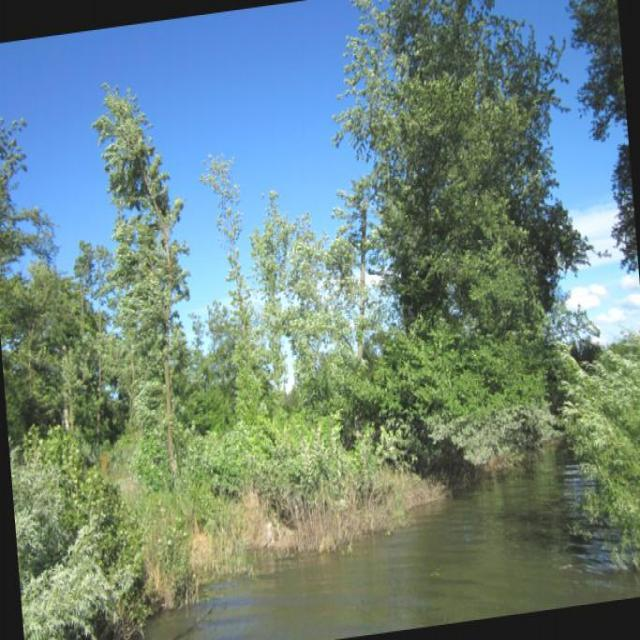flood: (67, 424, 639, 639)
